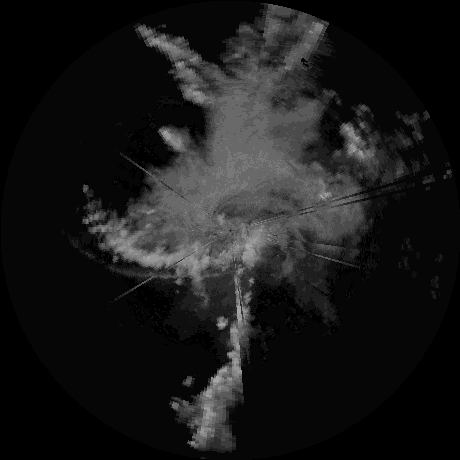frontgust: (77, 248, 173, 275), (201, 270, 235, 279)
